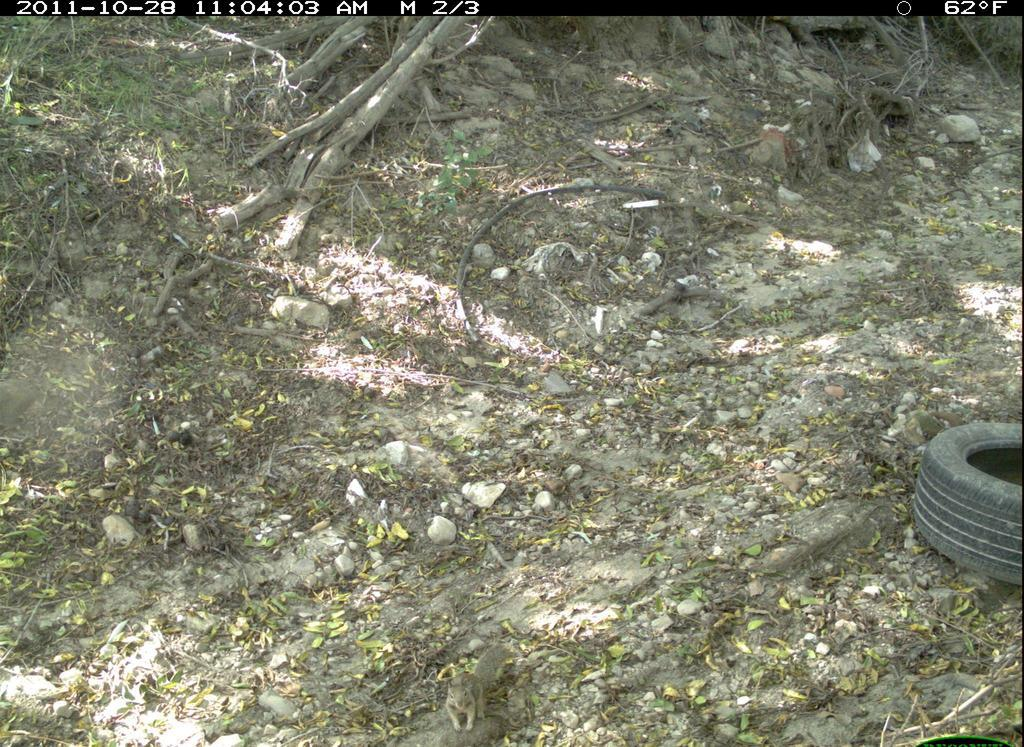squirrel: (429, 639, 520, 735)
